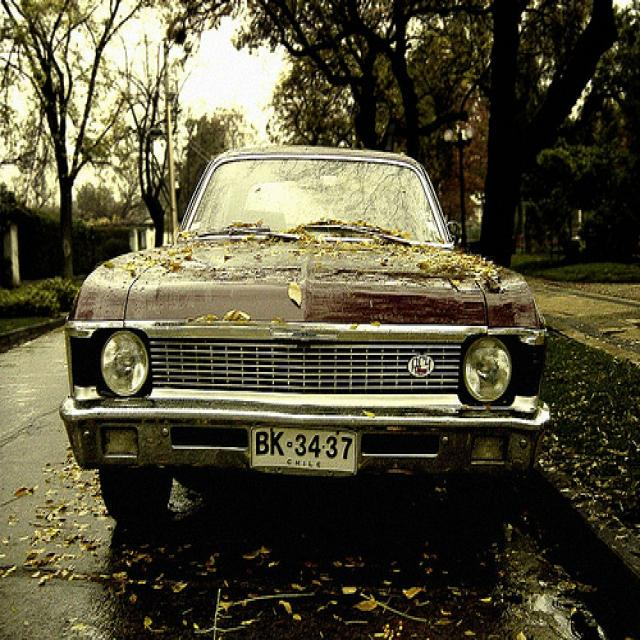Car: (52, 141, 556, 548)
